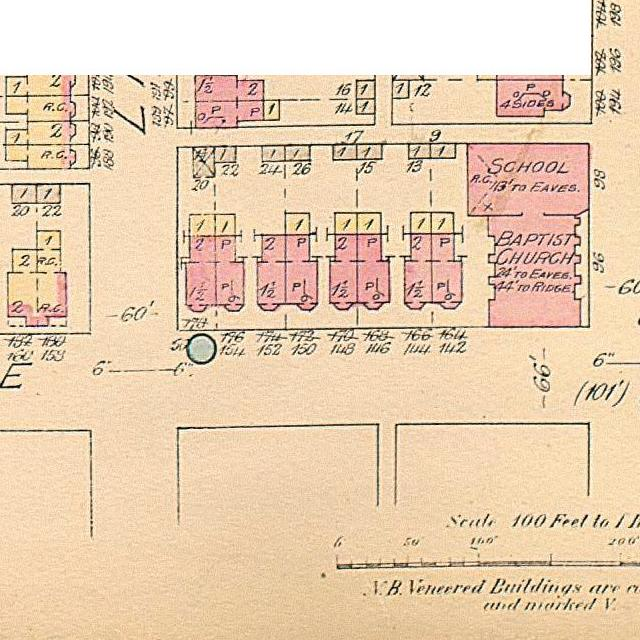building-footprints: (467, 143, 589, 327), (7, 231, 66, 326), (194, 75, 263, 128), (496, 80, 570, 117), (356, 235, 389, 309), (285, 235, 317, 310), (185, 236, 216, 312), (431, 234, 461, 309), (404, 234, 432, 309), (329, 235, 357, 310), (215, 236, 243, 311), (257, 235, 285, 310), (5, 96, 75, 122), (5, 144, 75, 169), (6, 121, 75, 145), (5, 75, 74, 96), (192, 147, 214, 177), (285, 213, 309, 235), (356, 213, 381, 234), (189, 215, 214, 236), (431, 212, 454, 234), (334, 213, 357, 234), (11, 184, 36, 203), (36, 184, 60, 203), (356, 143, 382, 160), (215, 214, 235, 236), (411, 213, 431, 234), (284, 145, 310, 161), (332, 144, 356, 160), (430, 143, 455, 158), (261, 146, 285, 161), (214, 146, 235, 163), (356, 80, 374, 99), (263, 100, 279, 120), (408, 144, 430, 158), (392, 80, 409, 98), (355, 99, 375, 114), (497, 75, 562, 79)
